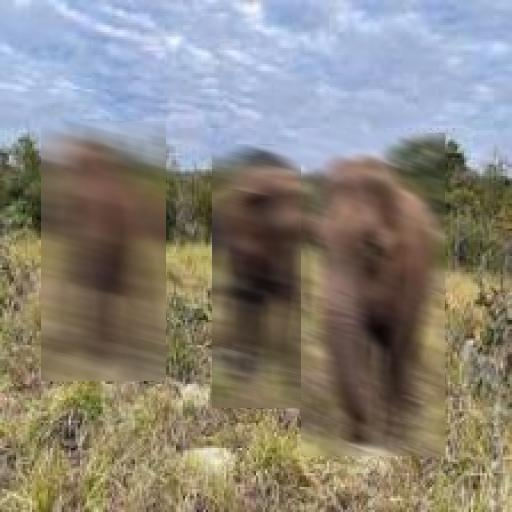Elephant: (302, 133, 446, 456), (41, 121, 166, 381), (212, 144, 319, 408)
